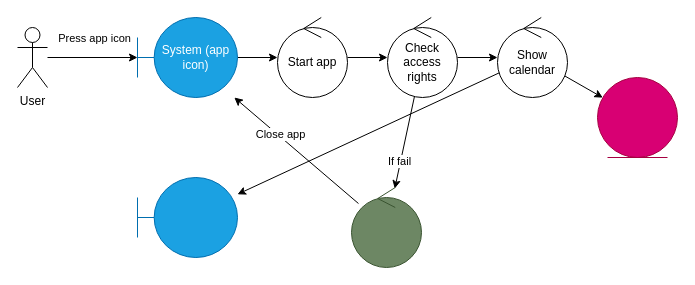
The diagram is 695 pixels wide and 285 high, and some of its shapes have lost their labels. The centre of each missing label's shape, as x and y in pixels:
Calendar: [637,117]
Main screen: [187,217]
Startup error: [386,227]
